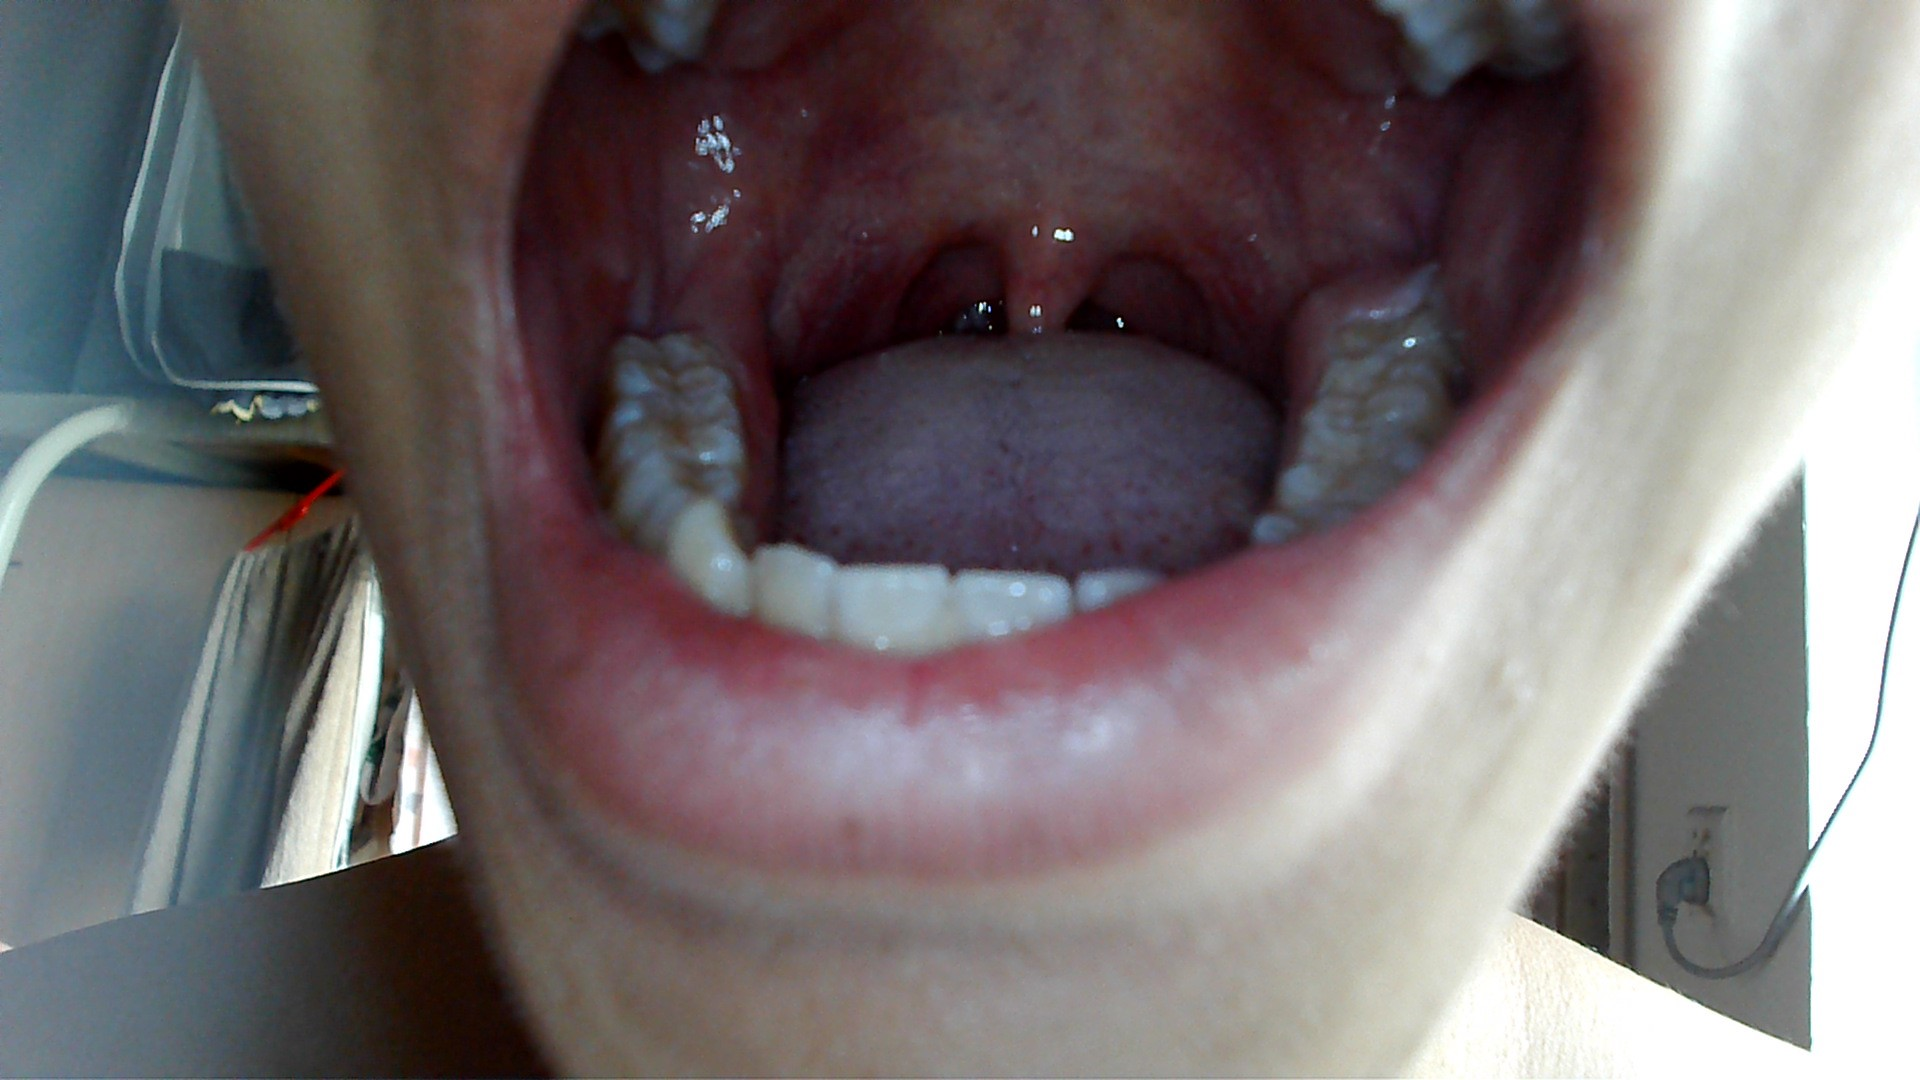throat: (855, 208, 945, 344), (1150, 224, 1238, 356)
